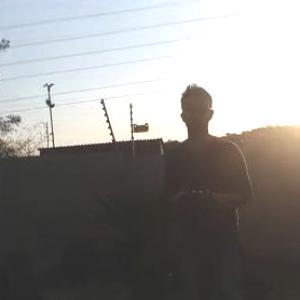follow: (164, 70, 263, 299)
